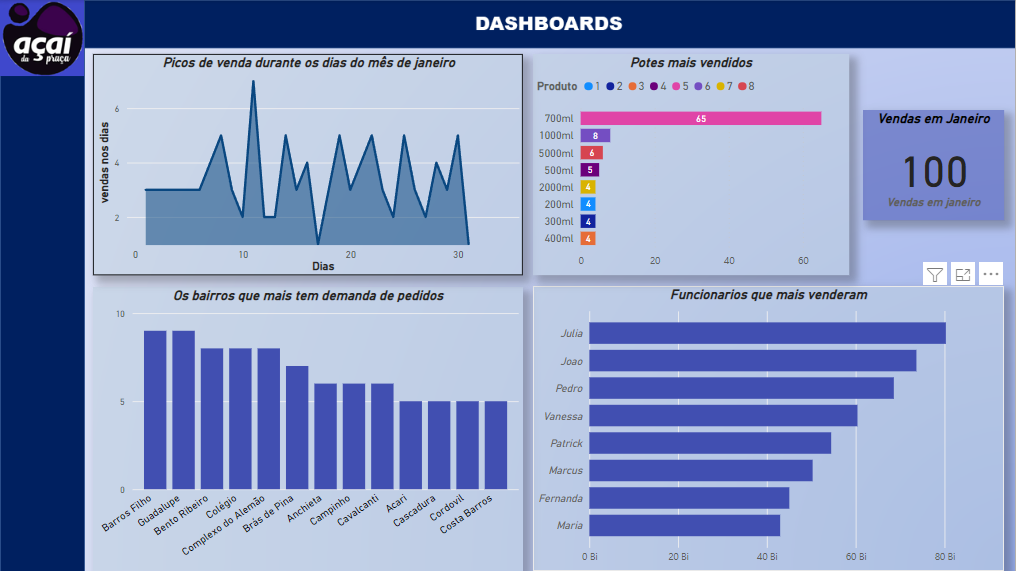

The dashboard page shown, as its layout file describes it:
{"tool":"powerbi","page":{"name":"Página 1","canvas":[1280,720],"ordinal":0},"visuals":[{"type":"clusteredColumnChart","title":"Os bairros que mais tem demanda de pedidos","fields":{"Category":["public cliente.bairro"],"Y":["CountNonNull(public ft_venda.Mesclado)"]},"box":[117.3,361.9,542.3,358.1],"z":0},{"type":"clusteredBarChart","title":"Funcionarios que mais venderam","fields":{"Category":["public funcionario.nome"],"Y":["Sum(public ft_venda.codigovenda)"]},"box":[672.2,360.7,594,359.4],"z":1000},{"type":"card","title":"Vendas em Janeiro","fields":{"Values":["CountNonNull(public ft_venda.codigovenda)"]},"box":[1088.3,138.7,177.8,138.7],"z":2000},{"type":"stackedAreaChart","title":"Picos de venda durante os dias do mês de janeiro","fields":{"Category":["public ft_venda.data_venda.Variation.Hierarquia de datas.Dia"],"Y":["Count(public ft_venda.codigovenda)"]},"box":[117.3,68.1,542.3,278.7],"z":3000},{"type":"barChart","title":"Potes mais vendidos","fields":{"Category":["public produto.pote"],"Series":["public produto.cod_produto"],"Y":["CountNonNull(public ft_venda.codigovenda)"]},"box":[672.2,68.1,398.5,278.7],"z":4000}]}

Visuals, with their boxes in screenshot pixels (x1, y1, x2, y2), scaled from the page's 1280x720 canvas onto the 1016x571 screenshot:
"Os bairros que mais tem demanda de pedidos" clusteredColumnChart: <bbox>93, 287, 524, 570</bbox>
"Funcionarios que mais venderam" clusteredBarChart: <bbox>534, 286, 1005, 570</bbox>
"Vendas em Janeiro" card: <bbox>864, 110, 1005, 220</bbox>
"Picos de venda durante os dias do mês de janeiro" stackedAreaChart: <bbox>93, 54, 524, 275</bbox>
"Potes mais vendidos" barChart: <bbox>534, 54, 850, 275</bbox>
